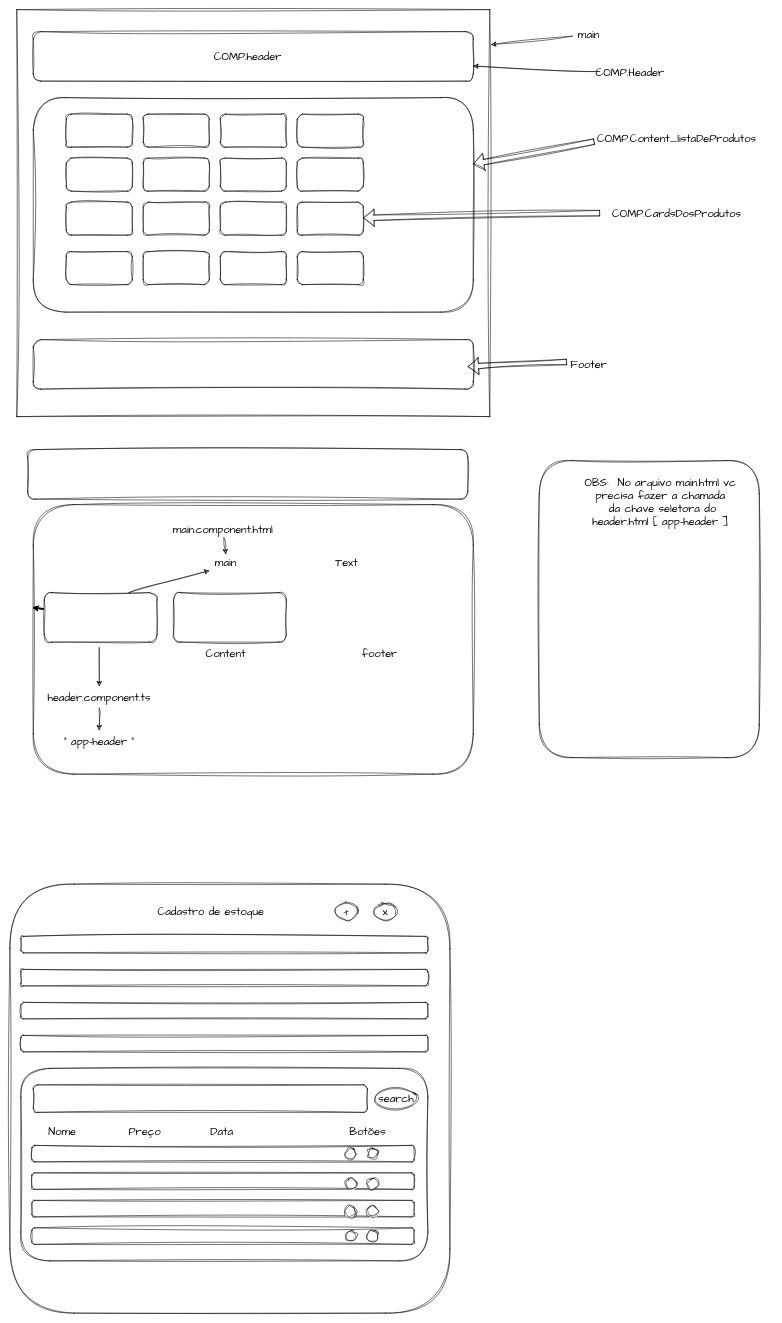
This 782x1323 diagram has some shape labels left out. Here are the shapes that lost their labels. From the top down, the centre of each, then its label:
the point at 100,617: header
the point at 200,1098: Pesquisa
